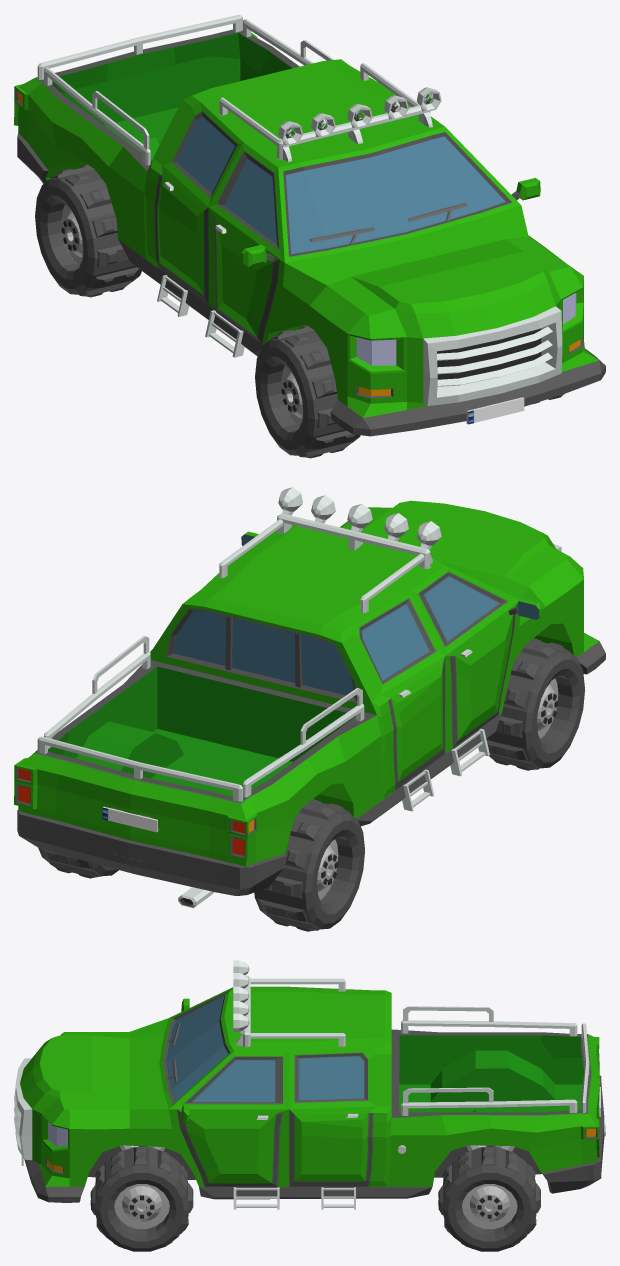
File: car.fbx
The picture shows the model from 3 angles, top to bottom: view 1: azimuth 30°, elevation 25°; view 2: azimuth 150°, elevation 25°; view 3: azimuth 270°, elevation 25°; orthographic projection. The views are drawn at different scales.
Parts seen in each view (by area): view 1: Body, WheelRR, WheelFR; view 2: Body, WheelRR, WheelFR, WheelRL; view 3: Body, WheelFL, WheelRL.
Part boxes in pixels (box(x1,y1,x2,y2)): Body: box(14, 14, 605, 436); WheelRR: box(35, 164, 141, 297); WheelFR: box(255, 325, 360, 458); Body: box(14, 487, 605, 908); WheelRR: box(254, 799, 364, 931); WheelFR: box(486, 638, 584, 770); WheelRL: box(38, 848, 118, 878); Body: box(14, 960, 605, 1209); WheelFL: box(90, 1147, 193, 1251); WheelRL: box(438, 1147, 540, 1251).
Bounding box in the file's own units: 190 × 168 × 415.
